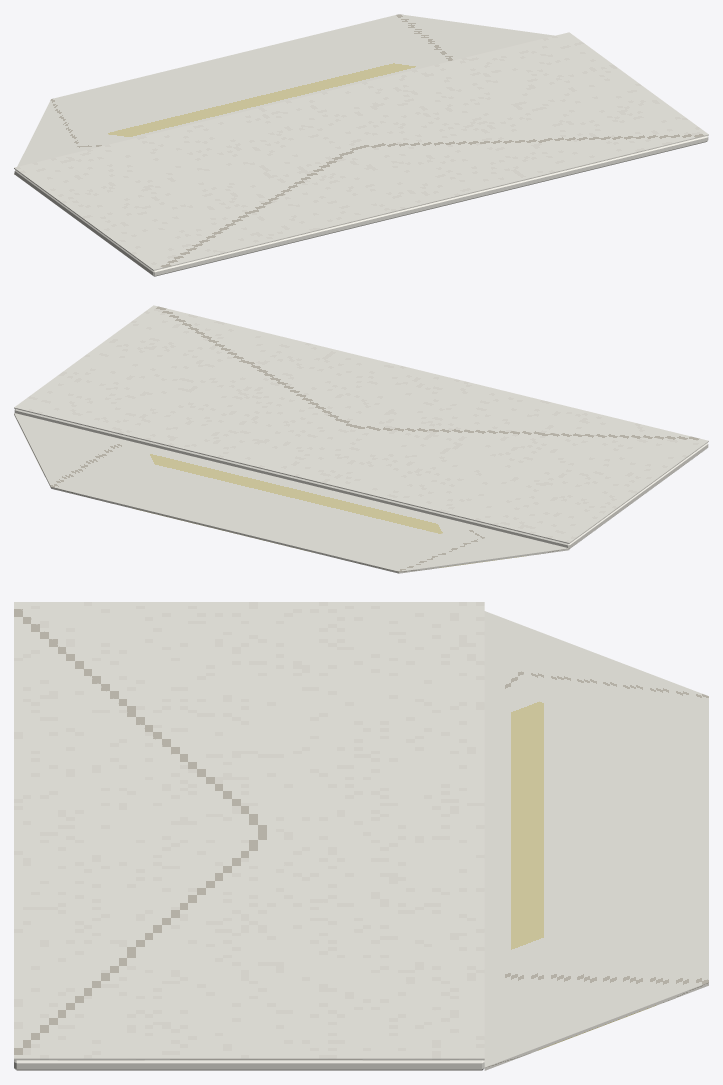
File: envelope.glb
3 renders of one model, top to bottom at view 1: azimuth 30°, elevation 25°; view 2: azimuth 150°, elevation 25°; view 3: azimuth 270°, elevation 25°, orthographic. The views are drawn at different scales.
Visible parts, largest first — view 1: block_back, block_flap, block_body; view 2: block_back, block_flap, block_body; view 3: block_back, block_flap, block_body.
Boxes of the visible parts, x1,y1,x2,y2 form: block_back: (14, 32, 708, 270); block_flap: (14, 14, 554, 174); block_body: (14, 136, 708, 276); block_back: (14, 305, 708, 543); block_flap: (14, 413, 569, 573); block_body: (14, 409, 708, 548); block_back: (14, 602, 484, 1060); block_flap: (484, 611, 708, 1070); block_body: (14, 1060, 484, 1070).
Size of the model in its own units: 0.241 by 0.0032 by 0.155.
1 material, 1 textured.
